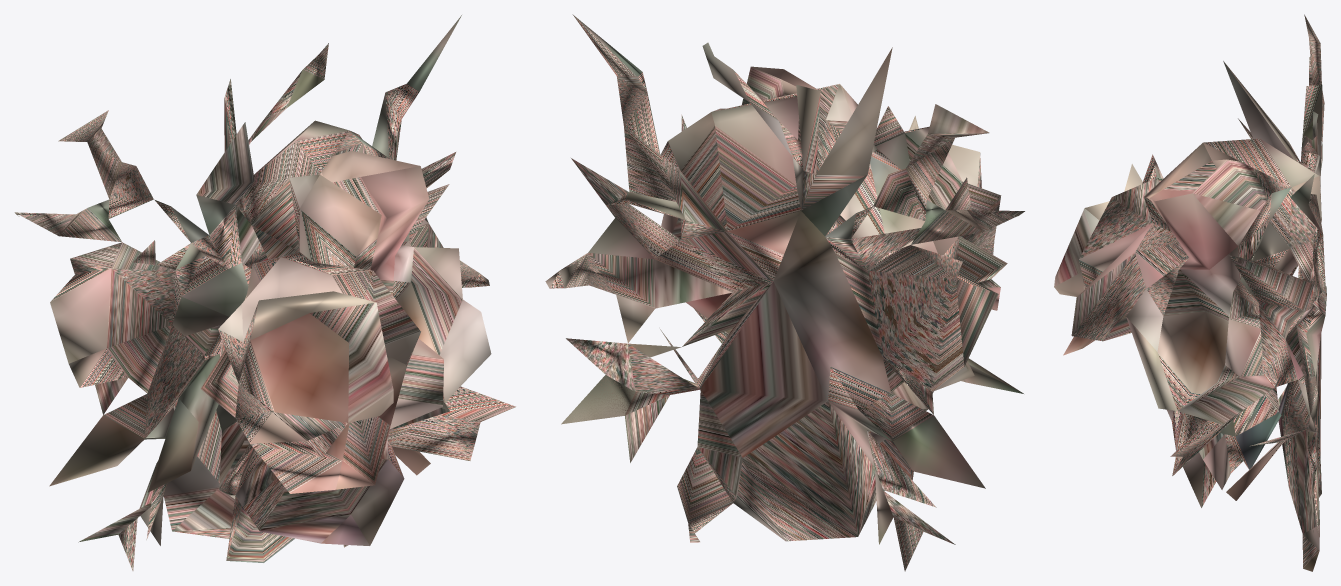
3 views of the same model, side by side, from view 1: azimuth 30°, elevation 25°; view 2: azimuth 150°, elevation 25°; view 3: azimuth 270°, elevation 25° (orthographic). The views are drawn at different scales.
Parts seen in each view (by area): view 1: Rose-Bouquet-9-06; view 2: Rose-Bouquet-9-06; view 3: Rose-Bouquet-9-06.
Part boxes in pixels (x1,y1,x2,y2): Rose-Bouquet-9-06: (14, 15, 515, 570); Rose-Bouquet-9-06: (545, 14, 1024, 571); Rose-Bouquet-9-06: (1054, 14, 1326, 571).
Size of the model in its own units: 0.2395 by 0.2428 by 0.1324.
1 material, 1 textured.
